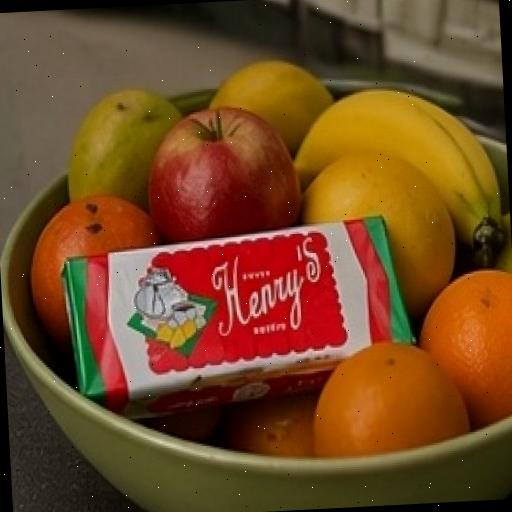henry-s: (20, 166, 480, 478)
